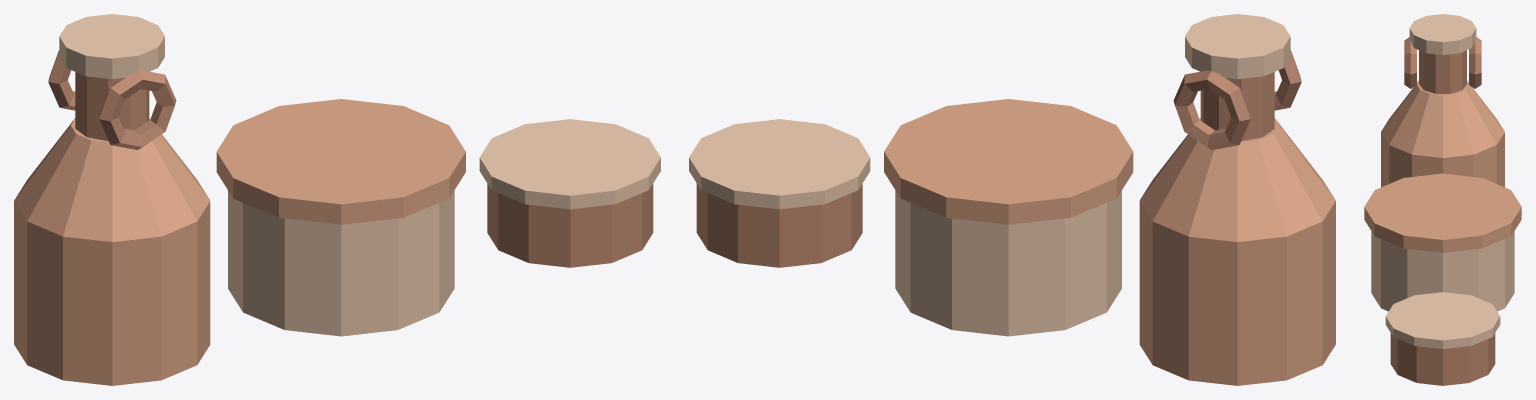
File: 45-Arte3D_jarrones_urnas.glb
The picture shows the model from 3 angles, left to right: view 1: azimuth 30°, elevation 25°; view 2: azimuth 150°, elevation 25°; view 3: azimuth 270°, elevation 25°; orthographic projection. The views are drawn at different scales.
Visible parts, largest first — view 1: SM_Jarron_Anfora_Cuerpo, SM_Jarron_Urna_Cuerpo, SM_Jarron_Urna_Boca, SM_Jarron_Anfora_Hombro, SM_Jarron_Cuenco_Boca, SM_Jarron_Cuenco_Cuerpo, SM_Jarron_Anfora_Boca, SM_Jarron_Anfora_Asa_0, SM_Jarron_Anfora_Cuello, SM_Jarron_Anfora_Asa_1; view 2: SM_Jarron_Anfora_Cuerpo, SM_Jarron_Urna_Cuerpo, SM_Jarron_Urna_Boca, SM_Jarron_Anfora_Hombro, SM_Jarron_Cuenco_Boca, SM_Jarron_Cuenco_Cuerpo, SM_Jarron_Anfora_Boca, SM_Jarron_Anfora_Asa_1, SM_Jarron_Anfora_Cuello, SM_Jarron_Anfora_Asa_0; view 3: SM_Jarron_Urna_Boca, SM_Jarron_Urna_Cuerpo, SM_Jarron_Anfora_Hombro, SM_Jarron_Cuenco_Boca, SM_Jarron_Cuenco_Cuerpo, SM_Jarron_Anfora_Cuerpo, SM_Jarron_Anfora_Boca, SM_Jarron_Anfora_Cuello, SM_Jarron_Anfora_Asa_0, SM_Jarron_Anfora_Asa_1.
Part boxes in pixels (x1=…): SM_Jarron_Anfora_Cuerpo: x1=14, y1=201, x2=210, y2=385; SM_Jarron_Urna_Cuerpo: x1=228, y1=190, x2=454, y2=336; SM_Jarron_Urna_Boca: x1=216, y1=99, x2=465, y2=224; SM_Jarron_Anfora_Hombro: x1=14, y1=118, x2=210, y2=242; SM_Jarron_Cuenco_Boca: x1=479, y1=119, x2=660, y2=209; SM_Jarron_Cuenco_Cuerpo: x1=487, y1=183, x2=653, y2=267; SM_Jarron_Anfora_Boca: x1=59, y1=14, x2=164, y2=79; SM_Jarron_Anfora_Asa_0: x1=99, y1=70, x2=176, y2=149; SM_Jarron_Anfora_Cuello: x1=75, y1=72, x2=149, y2=141; SM_Jarron_Anfora_Asa_1: x1=48, y1=50, x2=75, y2=110; SM_Jarron_Anfora_Cuerpo: x1=1139, y1=201, x2=1335, y2=385; SM_Jarron_Urna_Cuerpo: x1=895, y1=190, x2=1121, y2=336; SM_Jarron_Urna_Boca: x1=884, y1=99, x2=1133, y2=224; SM_Jarron_Anfora_Hombro: x1=1139, y1=118, x2=1335, y2=242; SM_Jarron_Cuenco_Boca: x1=689, y1=119, x2=870, y2=209; SM_Jarron_Cuenco_Cuerpo: x1=696, y1=183, x2=862, y2=267; SM_Jarron_Anfora_Boca: x1=1185, y1=14, x2=1290, y2=79; SM_Jarron_Anfora_Asa_1: x1=1173, y1=70, x2=1250, y2=149; SM_Jarron_Anfora_Cuello: x1=1200, y1=72, x2=1274, y2=141; SM_Jarron_Anfora_Asa_0: x1=1274, y1=50, x2=1301, y2=110; SM_Jarron_Urna_Boca: x1=1364, y1=173, x2=1521, y2=252; SM_Jarron_Urna_Cuerpo: x1=1371, y1=231, x2=1514, y2=311; SM_Jarron_Anfora_Hombro: x1=1381, y1=81, x2=1504, y2=157; SM_Jarron_Cuenco_Boca: x1=1385, y1=292, x2=1500, y2=348; SM_Jarron_Cuenco_Cuerpo: x1=1390, y1=333, x2=1495, y2=385; SM_Jarron_Anfora_Cuerpo: x1=1381, y1=132, x2=1504, y2=187; SM_Jarron_Anfora_Boca: x1=1409, y1=14, x2=1476, y2=54; SM_Jarron_Anfora_Cuello: x1=1419, y1=50, x2=1466, y2=93; SM_Jarron_Anfora_Asa_0: x1=1404, y1=37, x2=1416, y2=88; SM_Jarron_Anfora_Asa_1: x1=1469, y1=37, x2=1481, y2=88.
Bounding box in the file's own units: 1.9 × 0.9 × 0.66.
